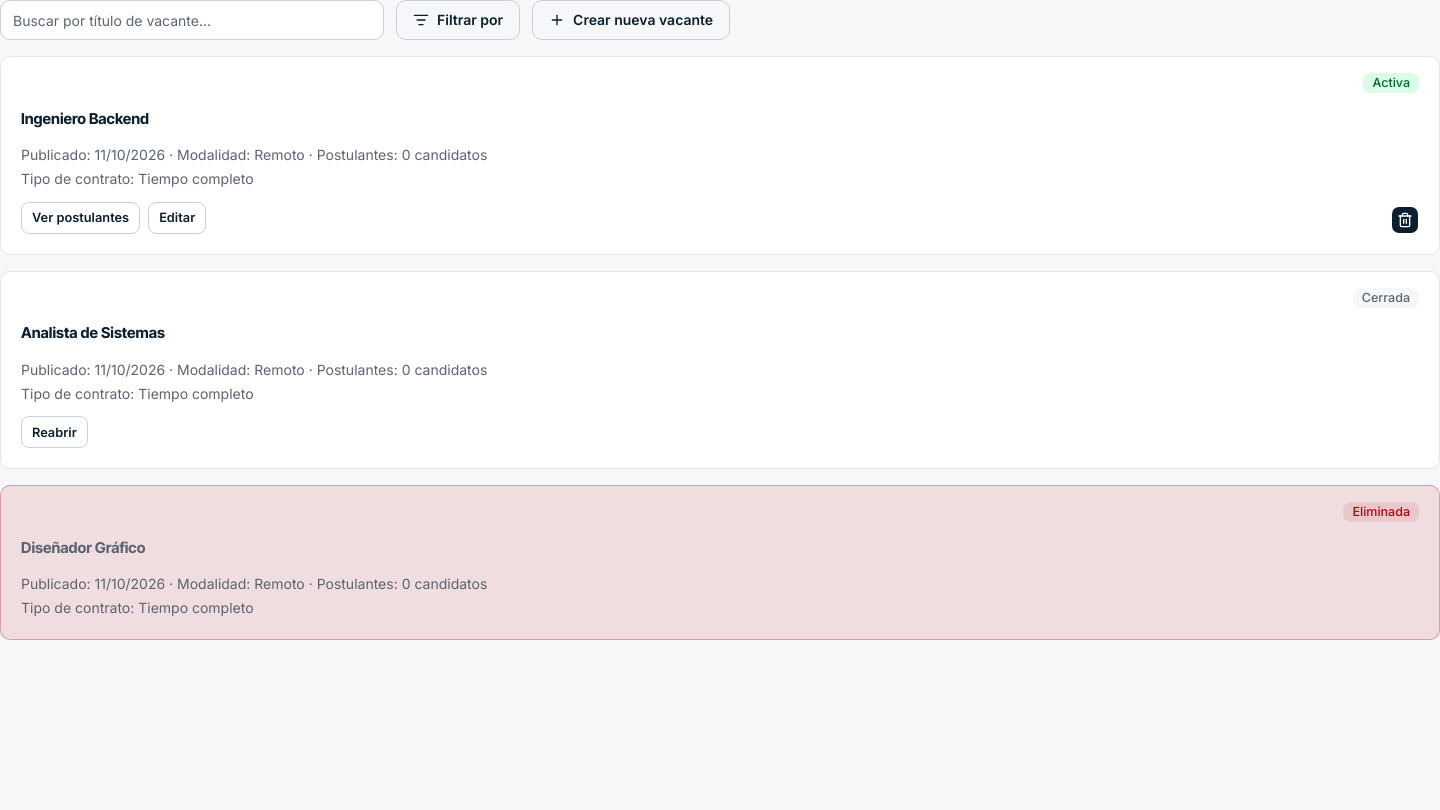
Test: VacancyList en modo historial › combina la búsqueda con el estado exigiendo ambas condiciones
The image size is (1440, 810).
Expected: the button "Ingeniero Backend" is shown, [21,97,149,141]
Step 1. Type "analista" into the search field labelled "Buscar por título de vacante" → (192, 20), box [0,0,384,40]
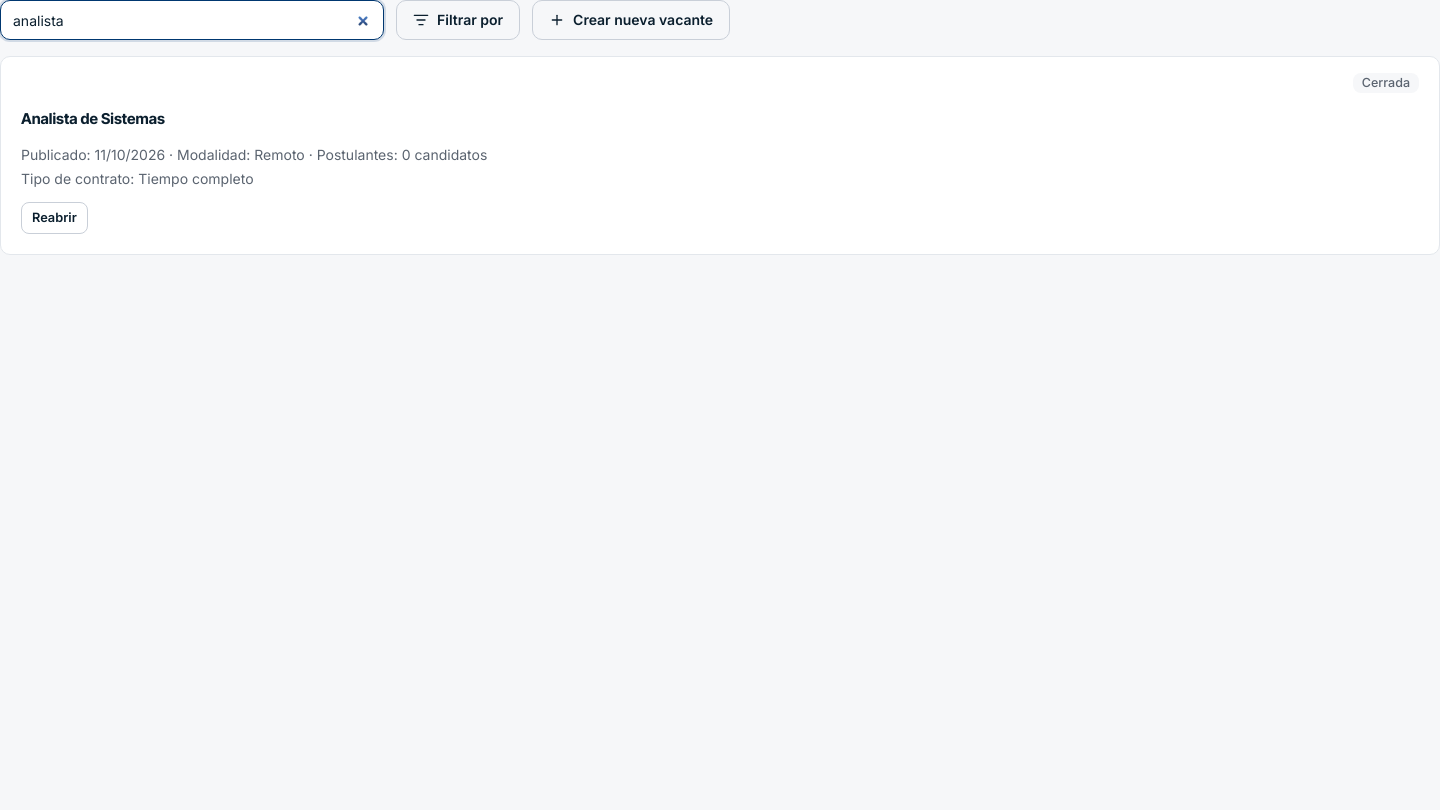
Step 2. Click the button "Filtrar por" → (458, 20), box [396,0,520,40]
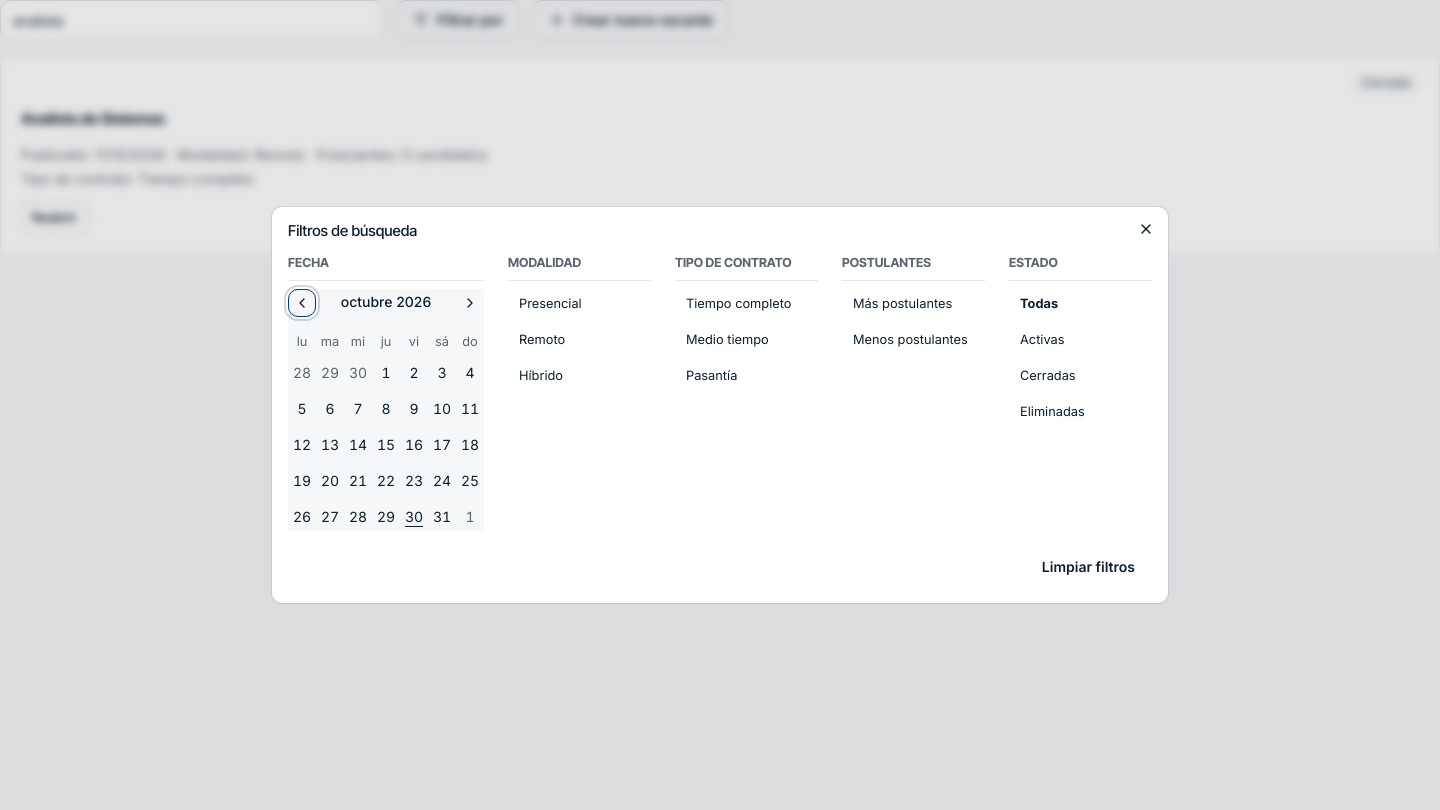
Step 3. Click the button "Activas" → (1042, 340), box [1009,324,1076,356]
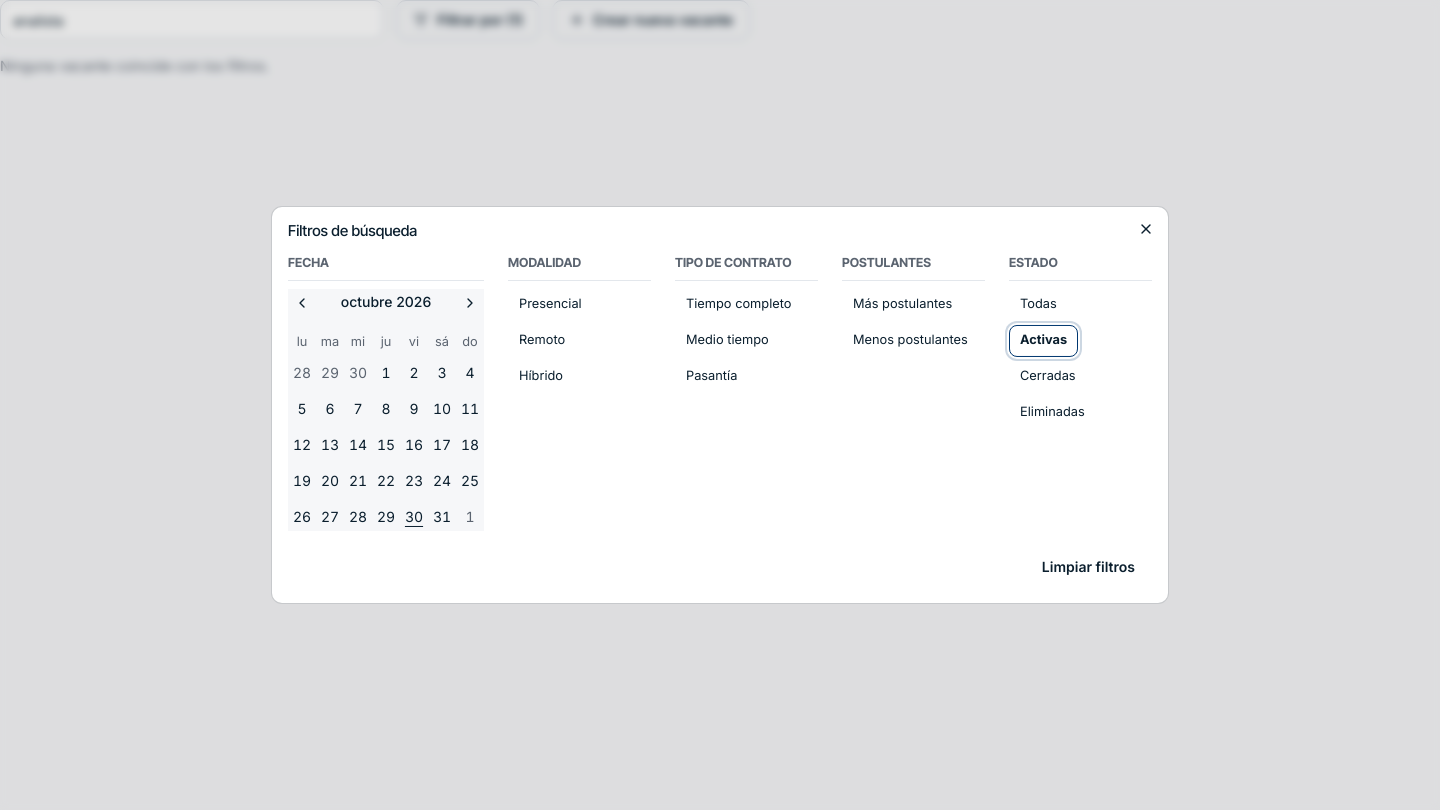
Step 4. Press Escape
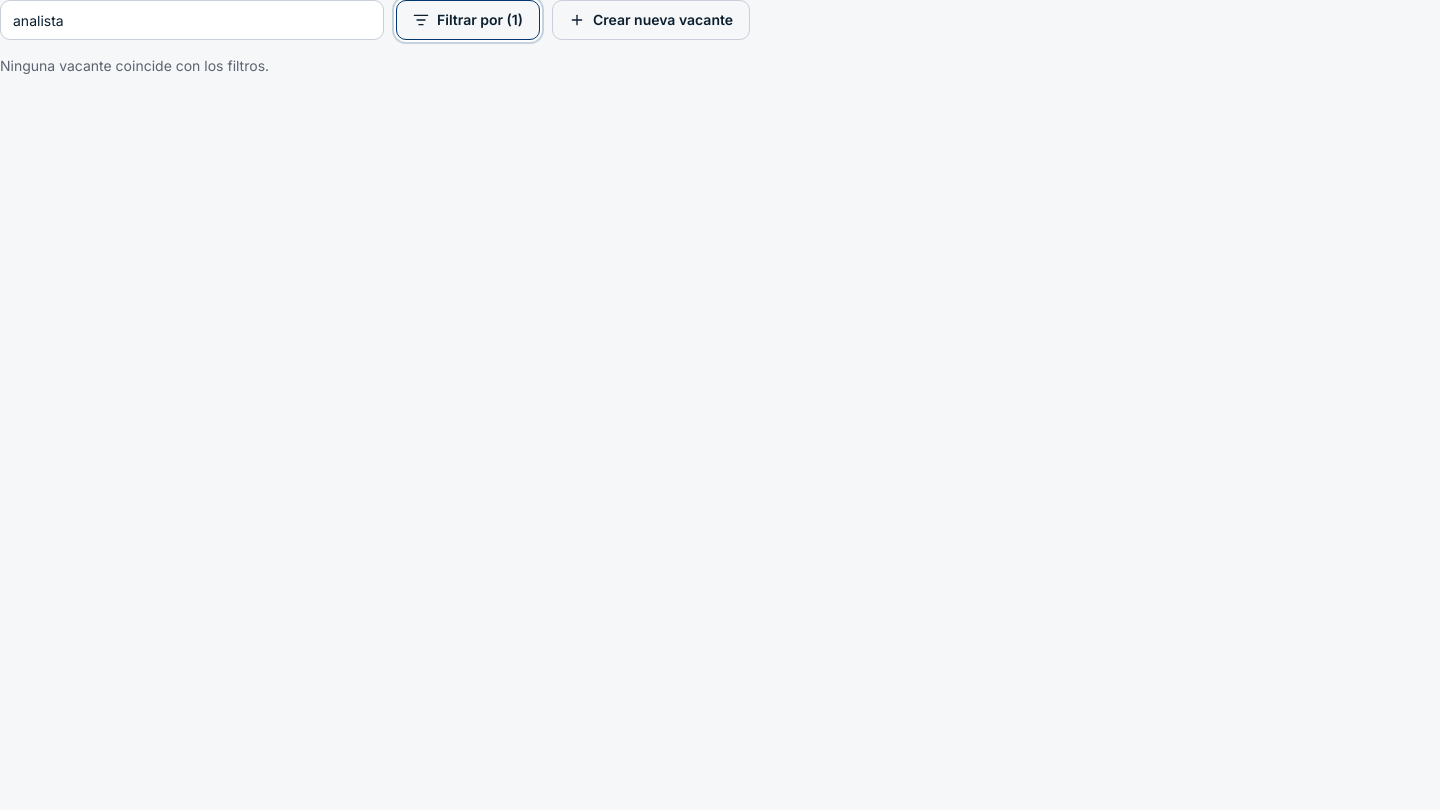
Expected: the text "Ninguna vacante coincide con los filtros." is shown, [0,57,269,74]
Expected: the list item "Presencial" is gone
